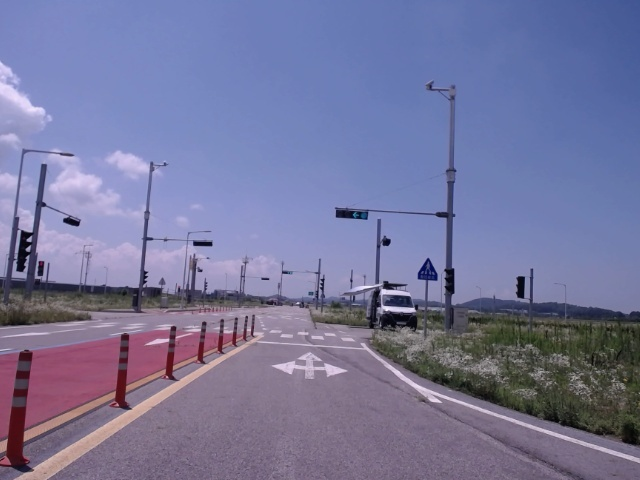all_green_4: (337, 207, 370, 219)
